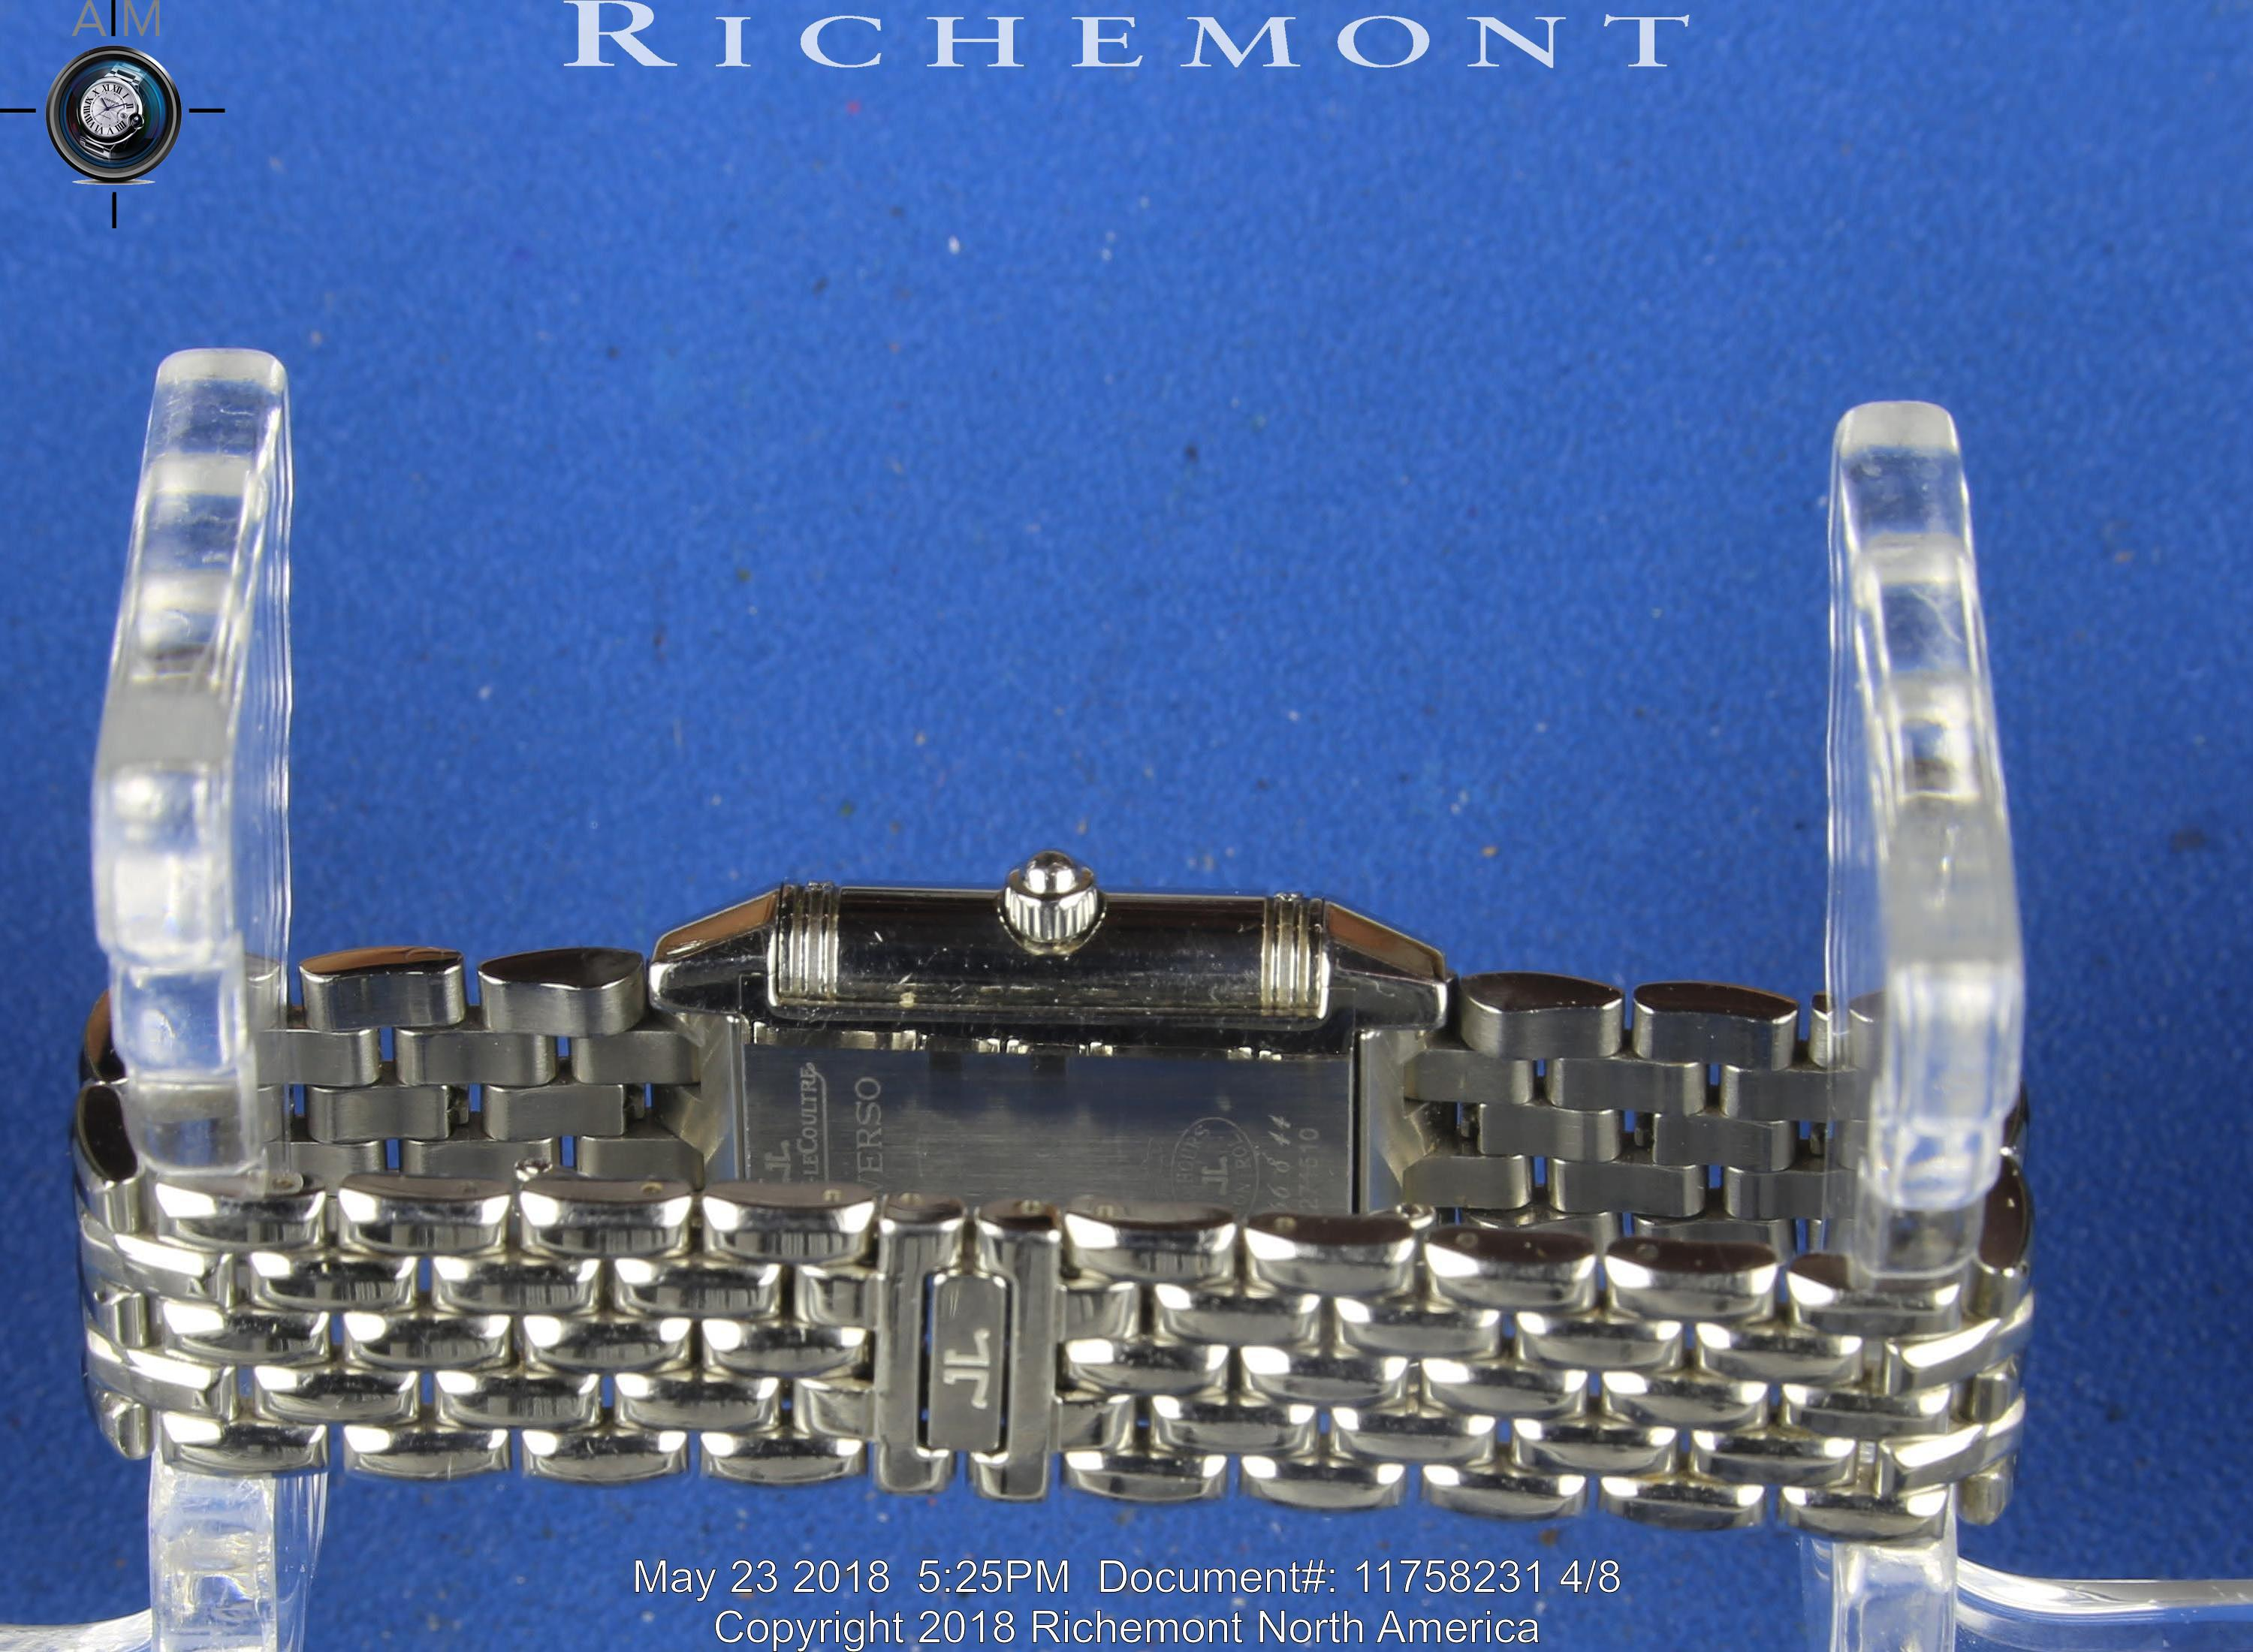Watch Back Case: (652, 857, 1448, 1225)
